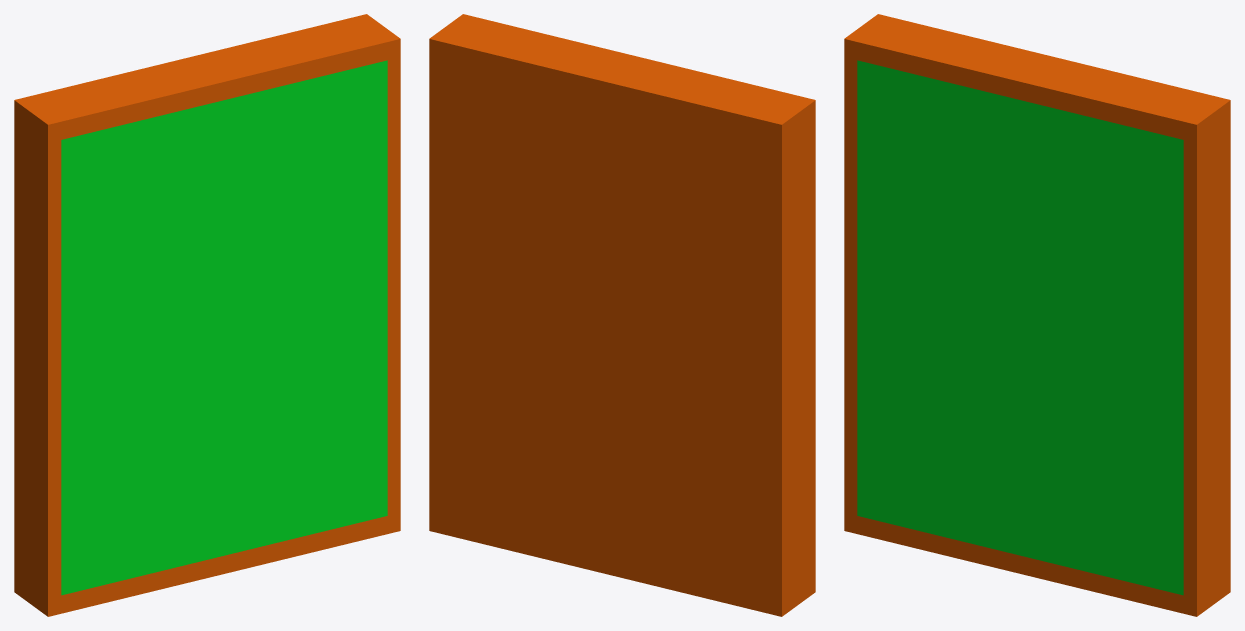
File: GameBox.fbx
3 renders of one model, left to right at view 1: azimuth 30°, elevation 25°; view 2: azimuth 150°, elevation 25°; view 3: azimuth 330°, elevation 25°, orthographic.
Parts seen in each view (by area): view 1: GameBox; view 2: GameBox; view 3: GameBox.
Boxes of the visible parts, x1,y1,x2,y2 form: GameBox: (14, 14, 400, 616); GameBox: (429, 14, 815, 616); GameBox: (844, 14, 1230, 616).
Size of the model in its own units: 120 by 160 by 20.
